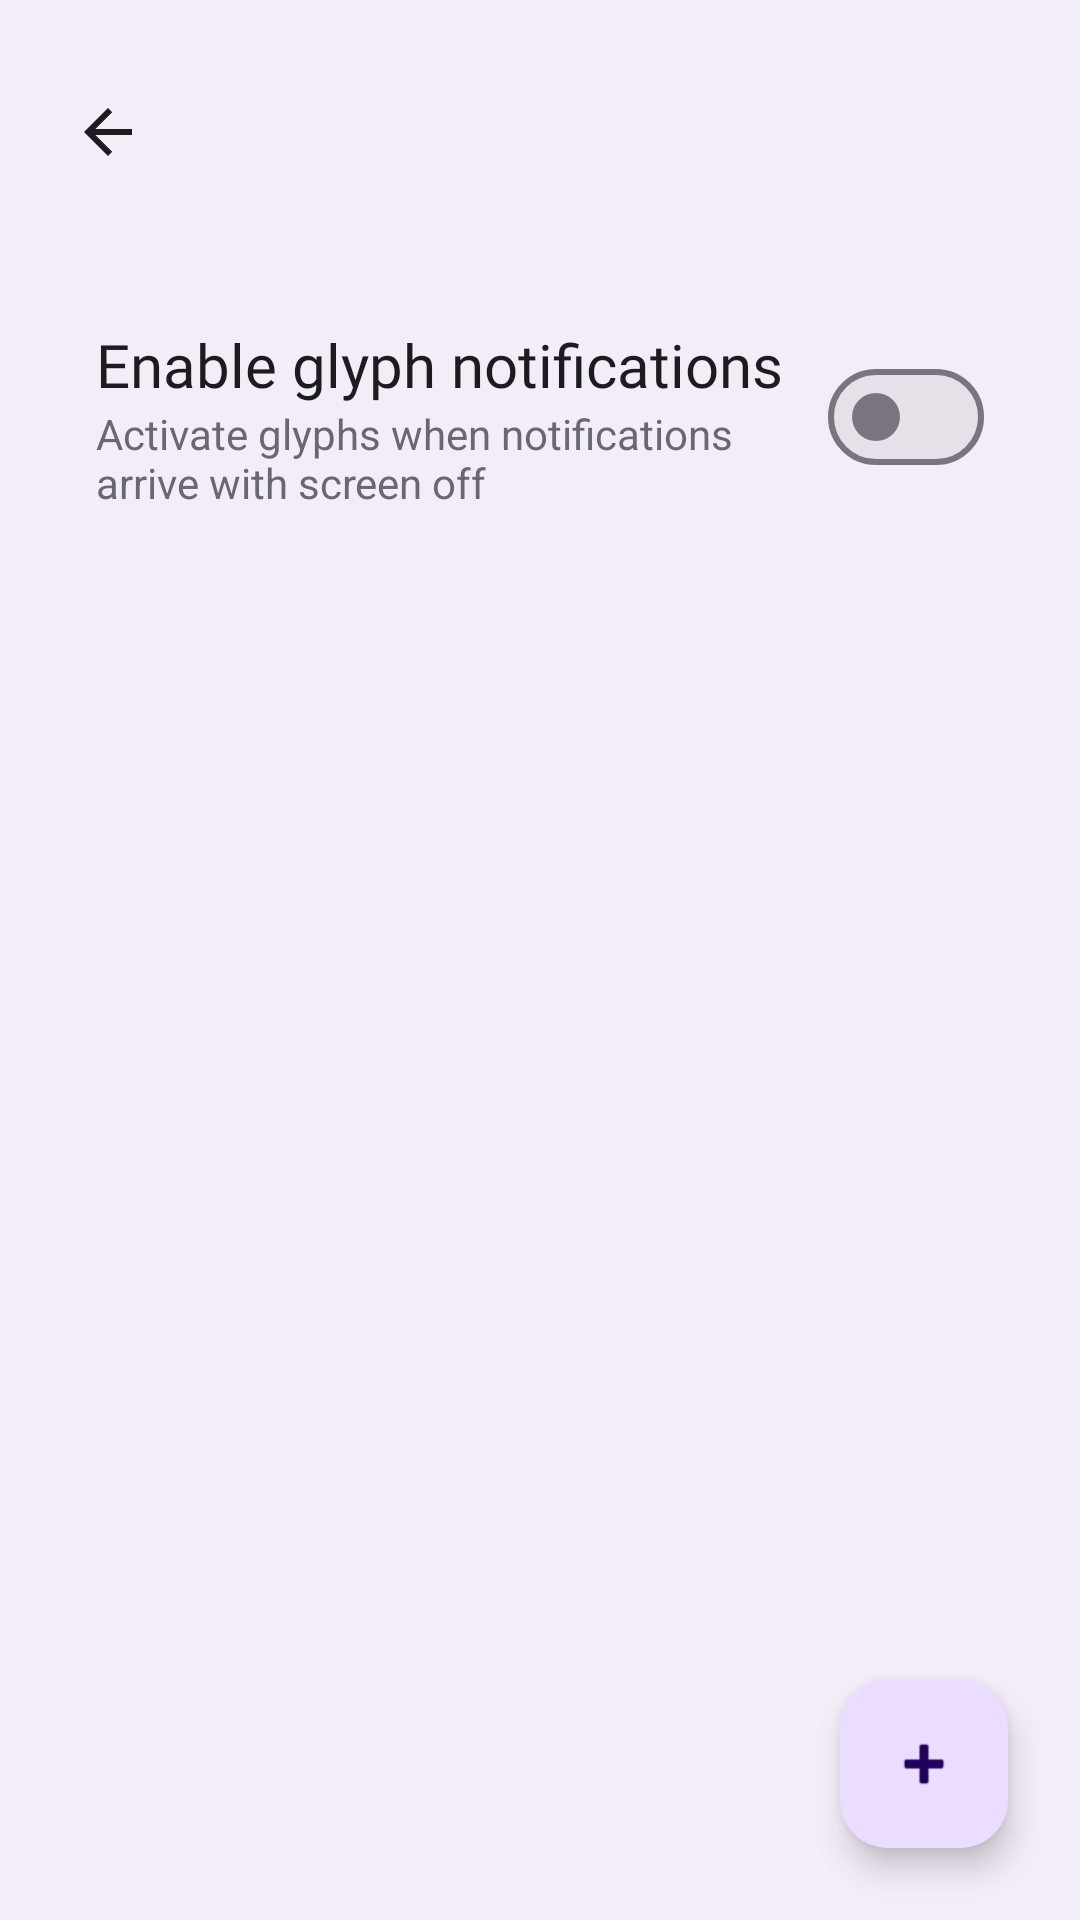

Named icons in this screenshot (1080 × 1920) and their centers, [x,y]:
Add app: [924,1764]
